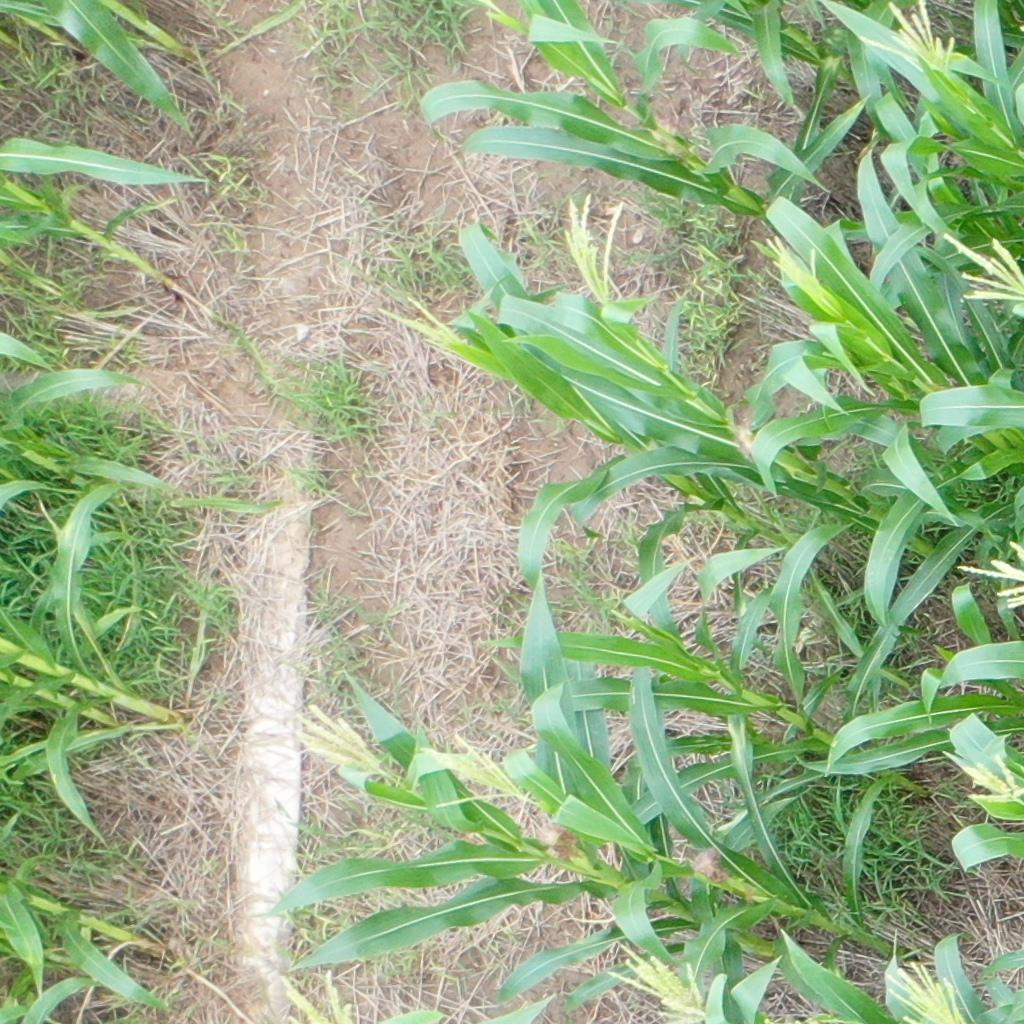Tassel: (411, 725, 534, 816), (286, 700, 394, 782), (935, 225, 1024, 319), (601, 940, 709, 1017), (554, 195, 626, 308), (856, 1, 960, 68), (370, 295, 476, 352), (877, 958, 968, 1024), (953, 538, 1024, 613), (281, 969, 357, 1024), (765, 235, 828, 300), (956, 755, 1024, 808), (477, 1, 526, 31)
